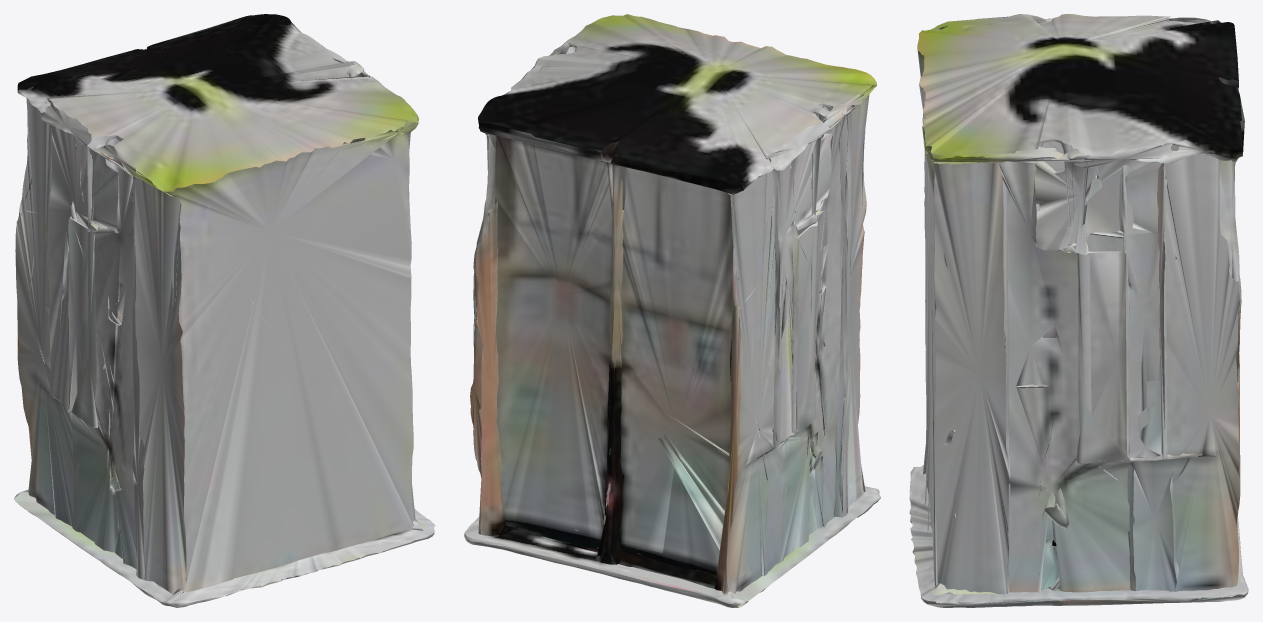
The picture shows the model from 3 angles, left to right: view 1: azimuth 30°, elevation 25°; view 2: azimuth 150°, elevation 25°; view 3: azimuth 270°, elevation 25°; orthographic projection. The views are drawn at different scales.
Visible parts, largest first — view 1: world; view 2: world; view 3: world.
Part boxes in pixels (x1,y1,x2,y2): world: (14,14,435,607); world: (464,14,880,607); world: (909,14,1248,607).
Bounding box in the file's own units: 0.376 × 0.5596 × 0.3553.
1 material, 1 textured.
